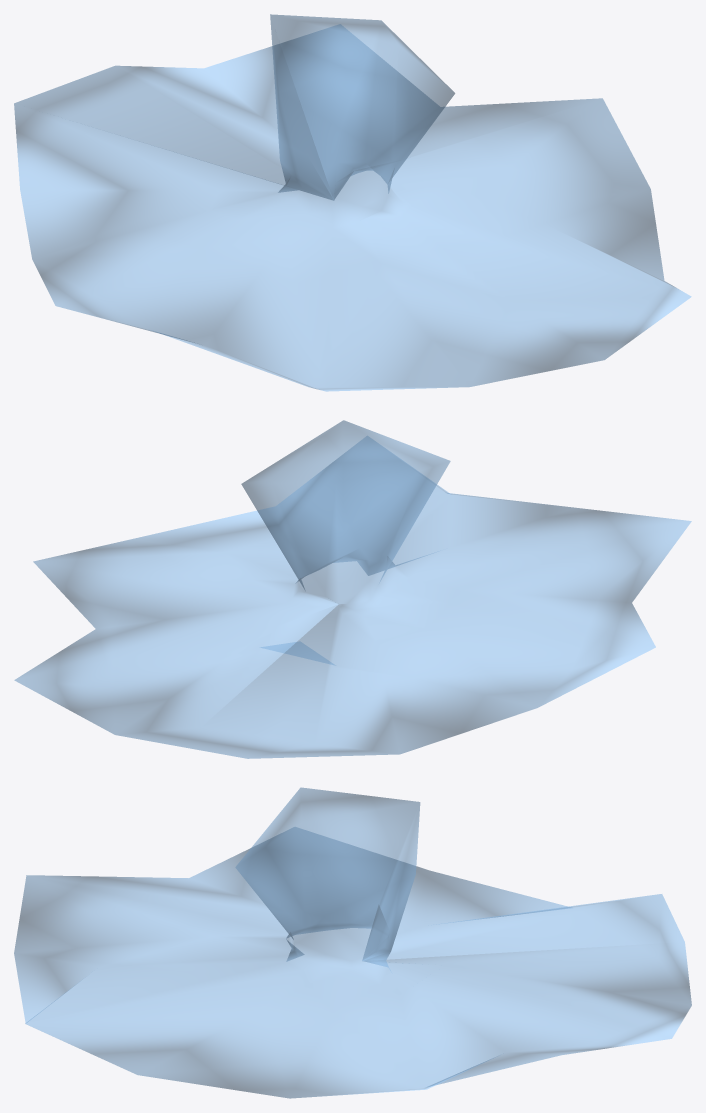
The model's file is sshydrofoil_shield.gltf.
3 renders of one model, top to bottom at view 1: azimuth 30°, elevation 25°; view 2: azimuth 150°, elevation 25°; view 3: azimuth 270°, elevation 25°, orthographic. The views are drawn at different scales.
Visible parts, largest first — view 1: sshydrofoil.shield; view 2: sshydrofoil.shield; view 3: sshydrofoil.shield.
Part boxes in pixels (left/top/right/bottom): sshydrofoil.shield: left=14, top=14, right=691, bottom=391; sshydrofoil.shield: left=14, top=420, right=691, bottom=758; sshydrofoil.shield: left=14, top=787, right=691, bottom=1098.
Bounding box in the file's own units: 20.67 × 7.07 × 22.5.
